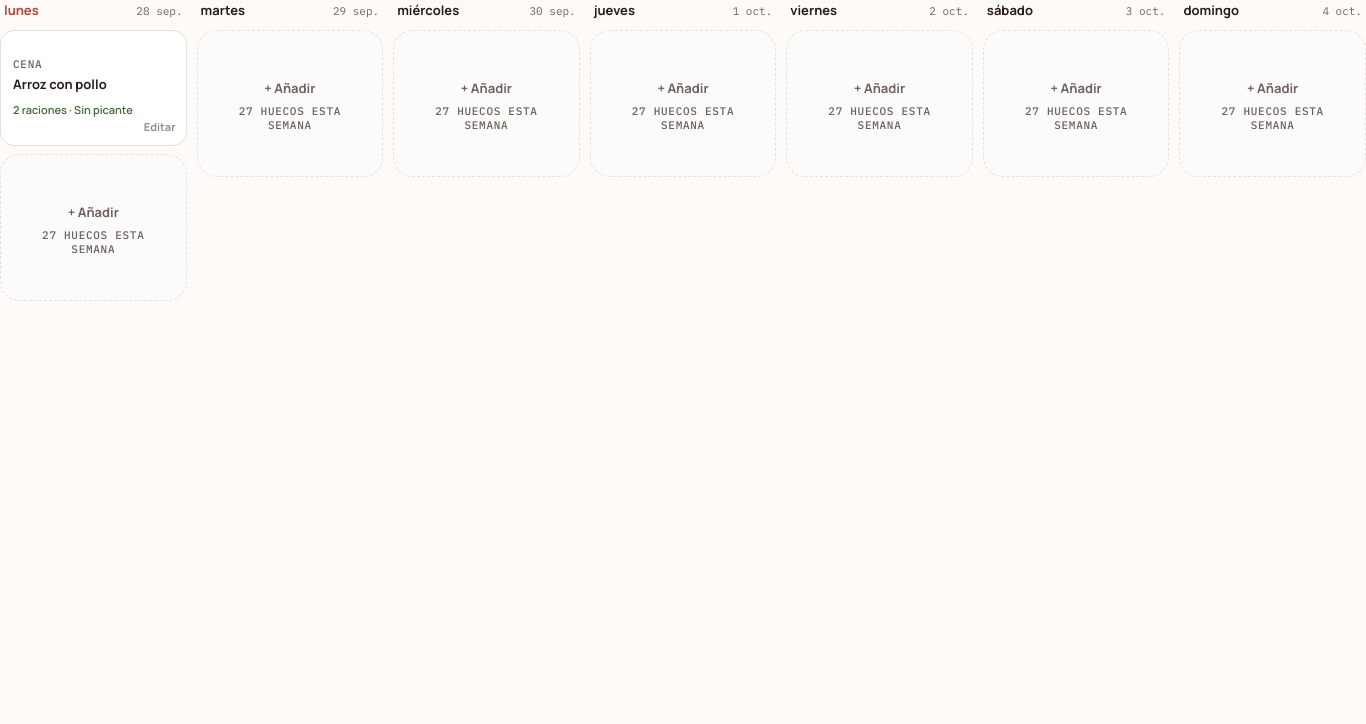
Scenario: weekly plan board › returns to the picker keeping the entered search
Click the button with aria-label "añadir comida el": (93, 227) [0,154,187,301]
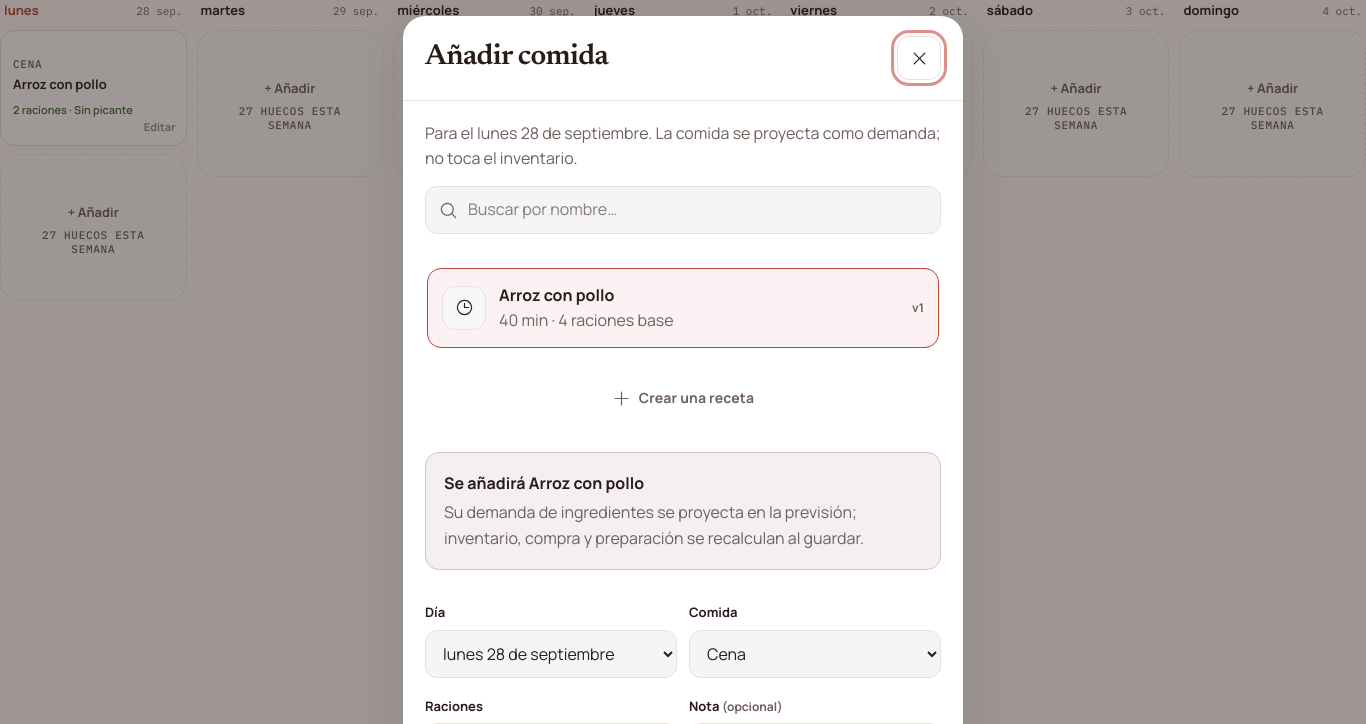
Click the button "Crear una receta": (683, 398) [425,376,941,420]
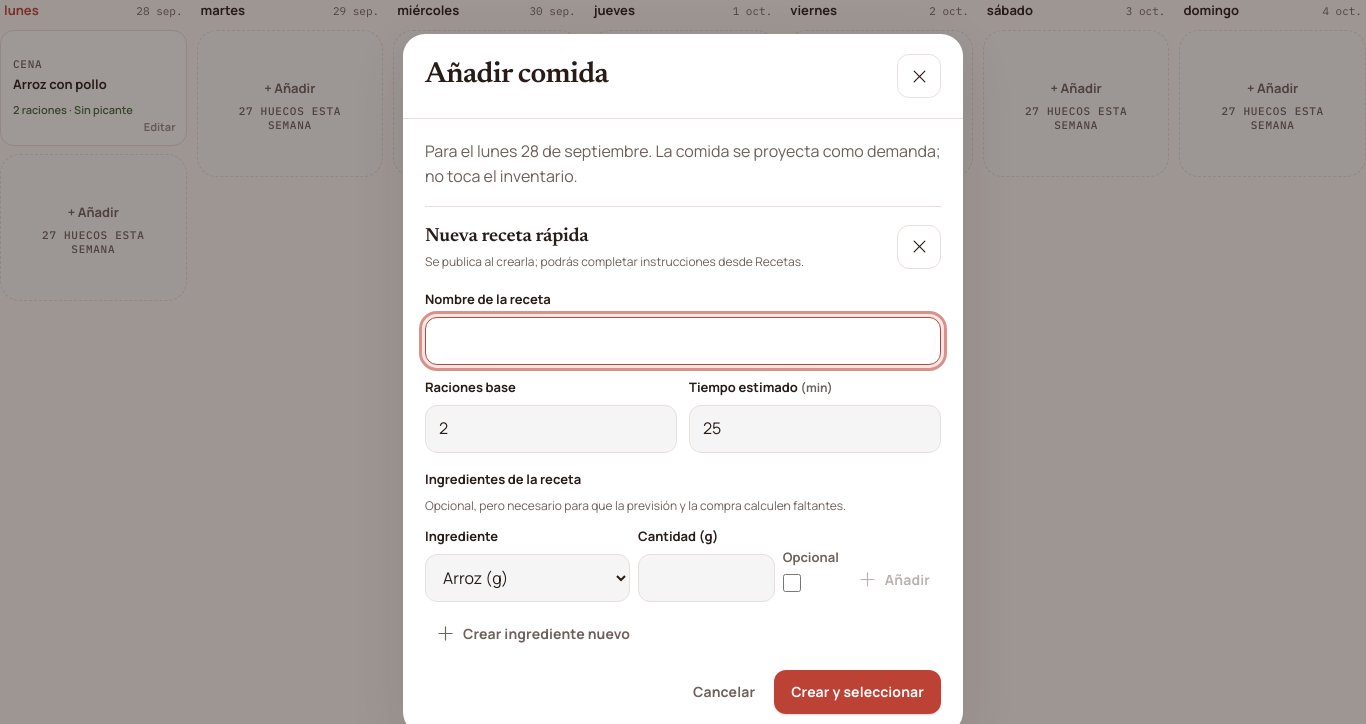
Click the button named "volver a resultados": (919, 246) [897,224,941,268]
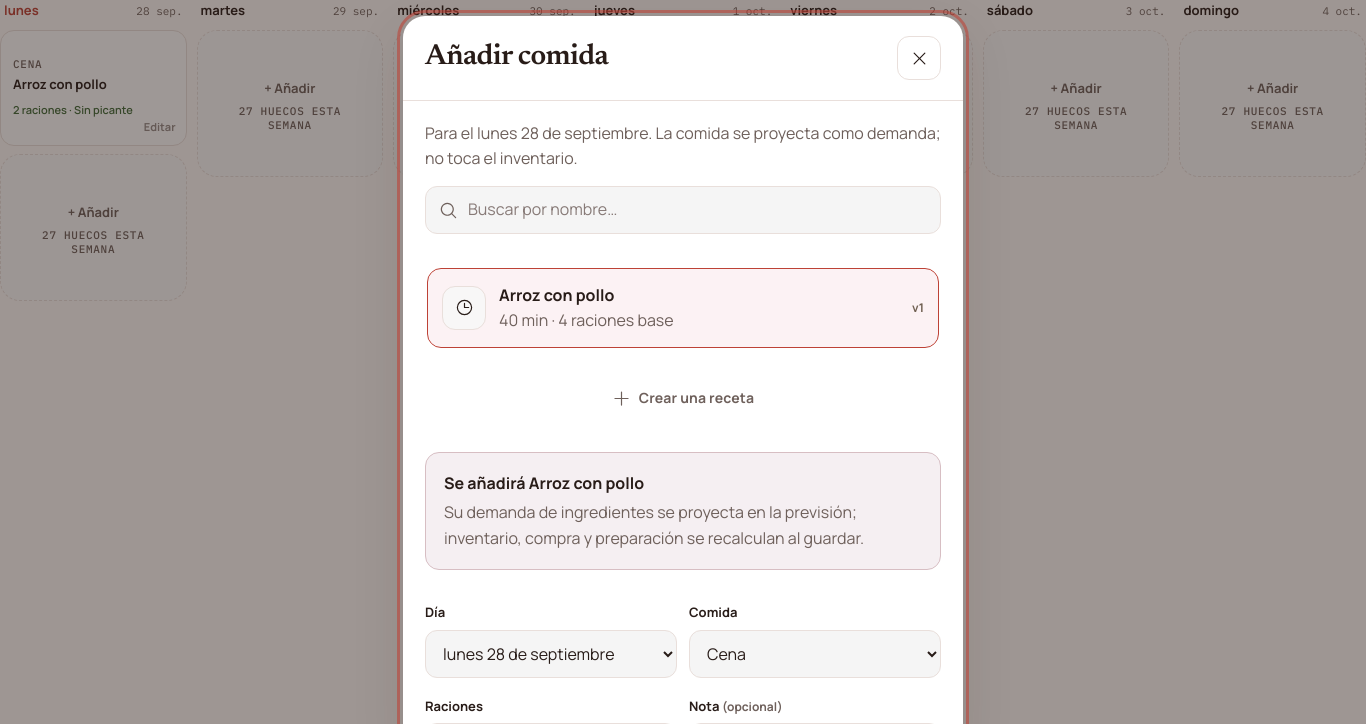
Now the list named "Recetas disponibles" is shown, box [425,266,941,350]
